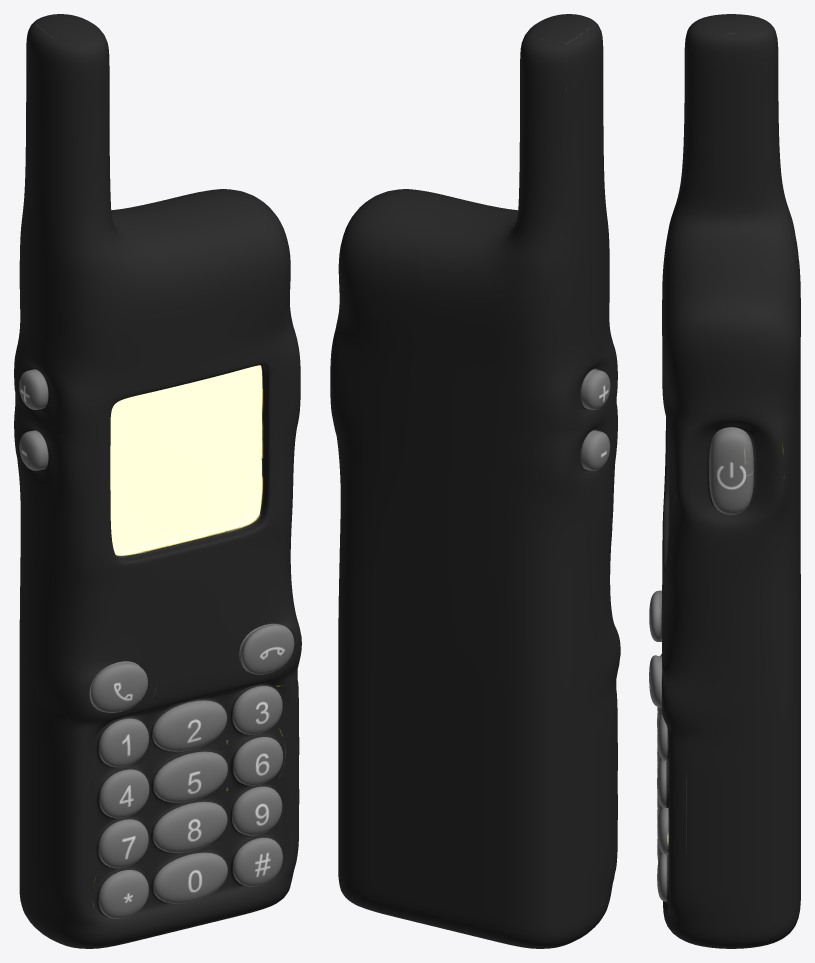
3 renders of one model, left to right at view 1: azimuth 30°, elevation 25°; view 2: azimuth 150°, elevation 25°; view 3: azimuth 270°, elevation 25°, orthographic. The views are drawn at different scales.
Parts seen in each view (by area): view 1: Phone; view 2: Phone; view 3: Phone.
Part boxes in pixels (x1,y1,x2,y2): Phone: (14, 14, 301, 948); Phone: (330, 14, 620, 948); Phone: (649, 14, 800, 948).
Size of the model in its own units: 0.0798 by 0.2674 by 0.0436.
1 material, 1 textured.
